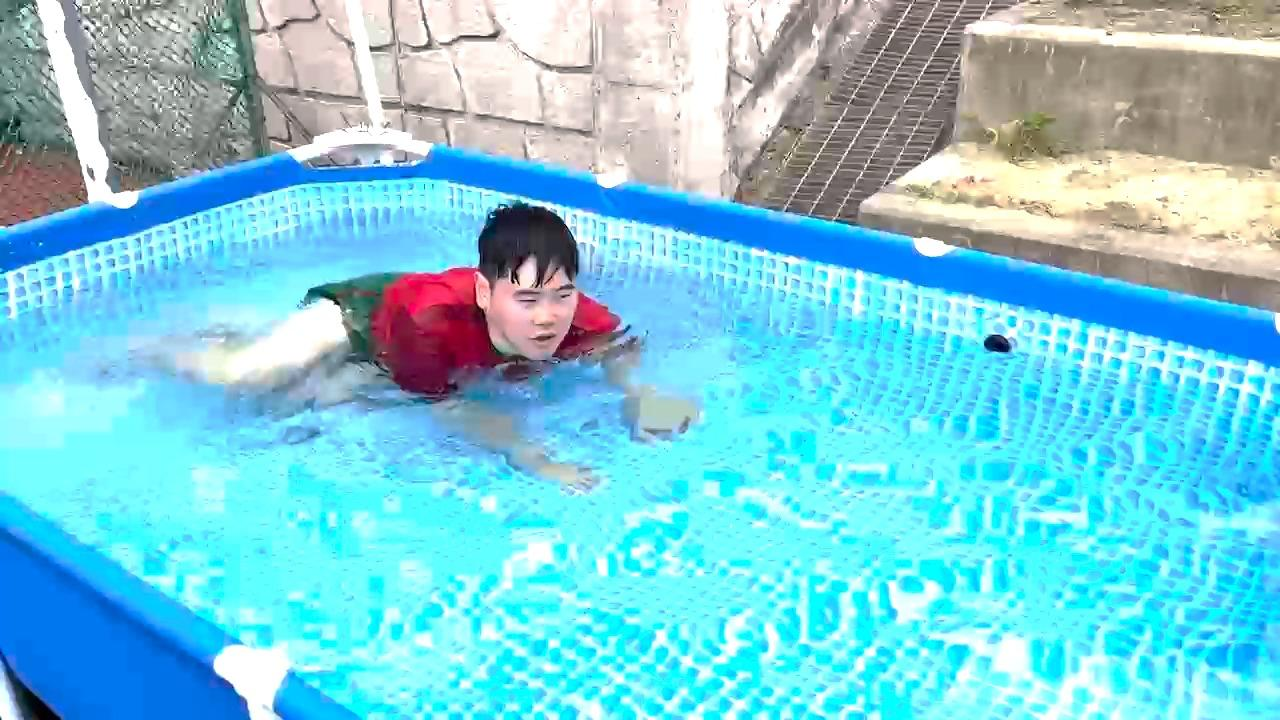Drowning: (79, 155, 707, 520)
